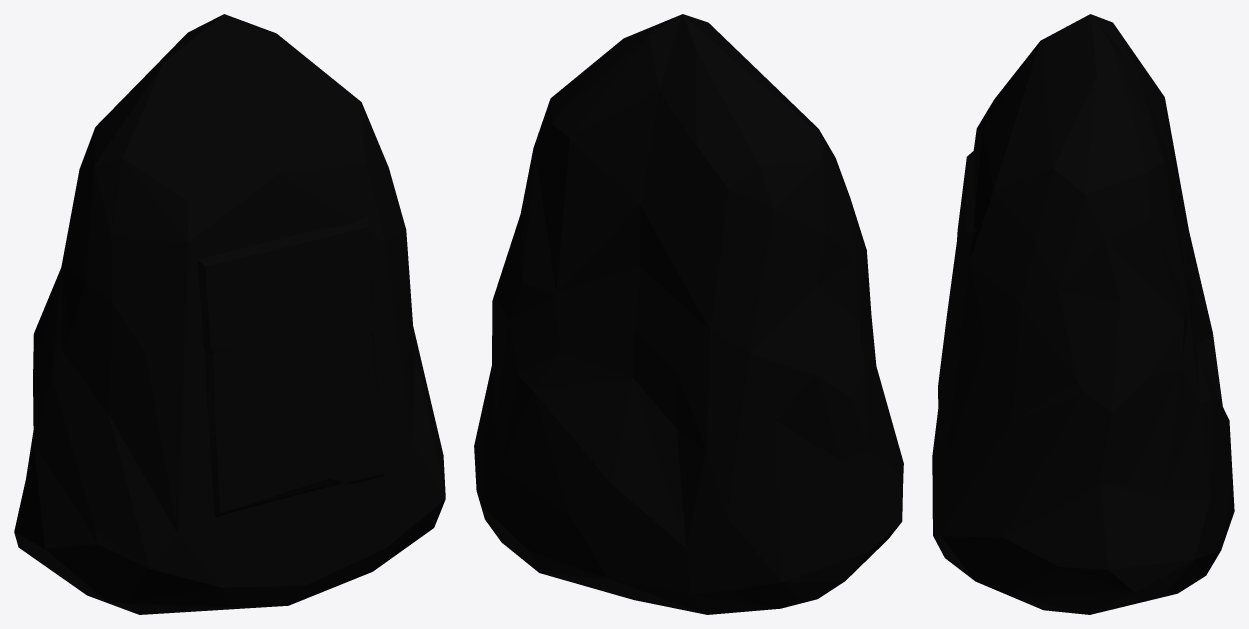
The model's file is FBX_Rock_Phoenix.fbx.
3 renders of one model, left to right at view 1: azimuth 30°, elevation 25°; view 2: azimuth 150°, elevation 25°; view 3: azimuth 270°, elevation 25°, orthographic. The views are drawn at different scales.
Visible parts, largest first — view 1: PhoenixRock; view 2: PhoenixRock; view 3: PhoenixRock.
Part boxes in pixels (left/top/right/bottom): PhoenixRock: left=14, top=14, right=445, bottom=614; PhoenixRock: left=474, top=14, right=903, bottom=614; PhoenixRock: left=932, top=14, right=1234, bottom=614.
Size of the model in its own units: 132 by 89.22 by 178.
